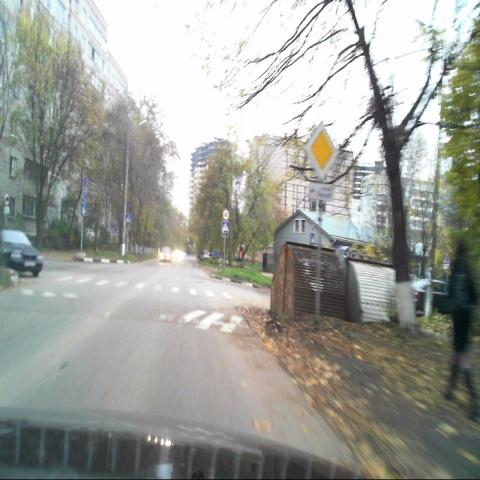2_1: (305, 122, 338, 180)
3_24: (223, 207, 230, 220)
5_19_1: (222, 222, 230, 234)
